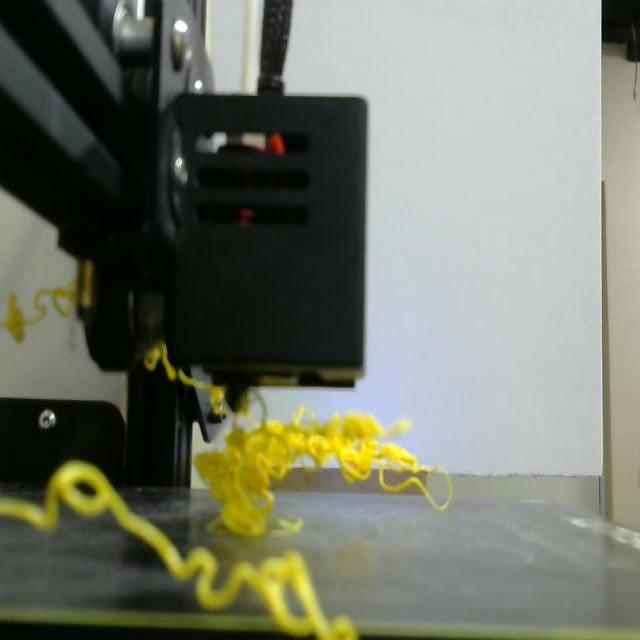spaghetti: (0, 460, 358, 638), (196, 408, 452, 537), (144, 342, 230, 421), (0, 285, 75, 341)
